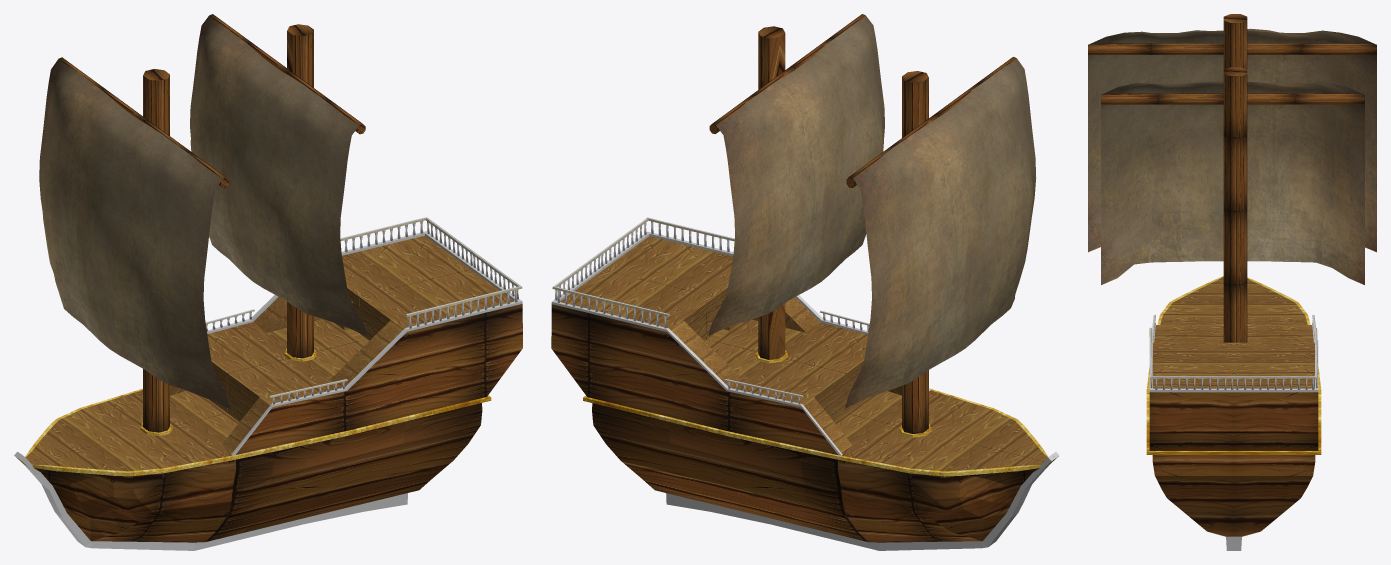
Rendered from modelBateau.fbx.
3 renders of one model, left to right at view 1: azimuth 30°, elevation 25°; view 2: azimuth 150°, elevation 25°; view 3: azimuth 270°, elevation 25°, orthographic. The views are drawn at different scales.
Parts seen in each view (by area): view 1: polySurface69, polySurface65, polySurface168, polySurface166, polySurface169, polySurface165, polySurface167; view 2: polySurface69, polySurface65, polySurface168, polySurface166, polySurface169, polySurface165, polySurface167; view 3: polySurface168, polySurface69, polySurface169, polySurface65, polySurface166, polySurface167, polySurface165.
Boxes of the visible parts, bbox=[...] form: polySurface69: bbox=[14, 231, 522, 550]; polySurface65: bbox=[39, 59, 230, 409]; polySurface168: bbox=[190, 15, 366, 335]; polySurface166: bbox=[39, 57, 229, 408]; polySurface169: bbox=[190, 14, 366, 335]; polySurface165: bbox=[140, 69, 172, 435]; polySurface167: bbox=[284, 24, 316, 361]; polySurface69: bbox=[551, 231, 1059, 550]; polySurface65: bbox=[845, 58, 1036, 408]; polySurface168: bbox=[708, 15, 884, 335]; polySurface166: bbox=[846, 57, 1035, 407]; polySurface169: bbox=[708, 14, 884, 334]; polySurface165: bbox=[899, 71, 931, 437]; polySurface167: bbox=[755, 26, 787, 363]; polySurface168: bbox=[1101, 79, 1364, 284]; polySurface69: bbox=[1146, 276, 1321, 550]; polySurface169: bbox=[1101, 80, 1364, 283]; polySurface65: bbox=[1088, 28, 1376, 252]; polySurface166: bbox=[1088, 29, 1376, 251]; polySurface167: bbox=[1223, 67, 1247, 342]; polySurface165: bbox=[1222, 14, 1249, 325].
Bounding box in the file's own units: 8.76 × 9.08 × 5.46.
